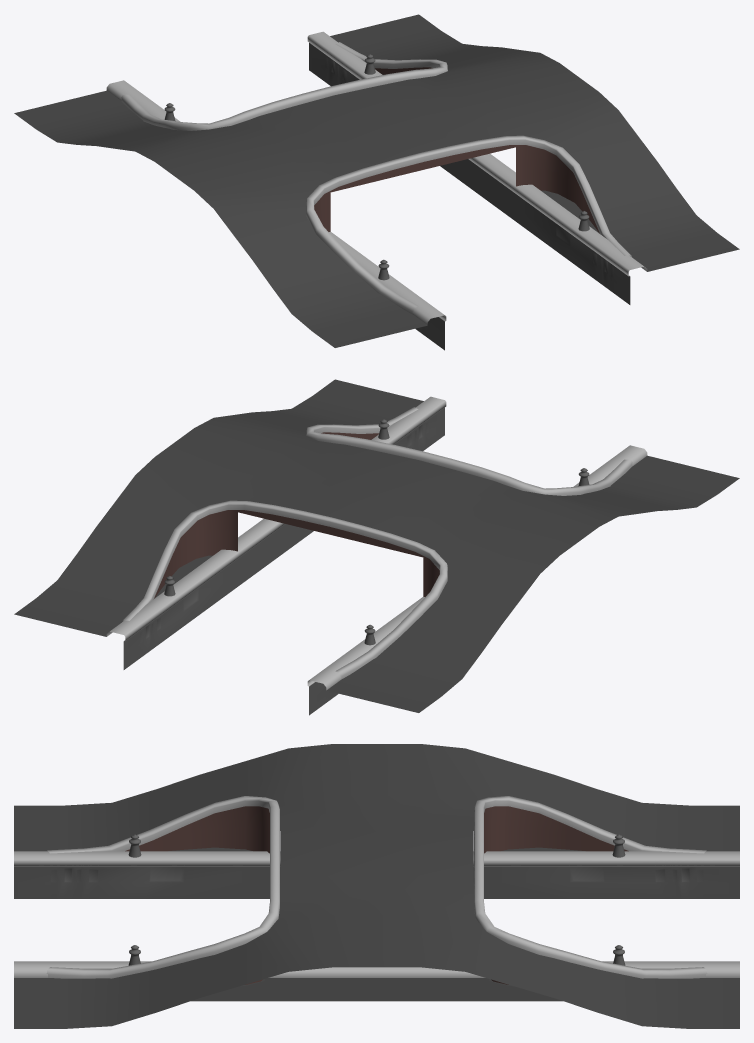
The model's file is bridge_module.fbx.
3 views of the same model, one above another, from view 1: azimuth 30°, elevation 25°; view 2: azimuth 150°, elevation 25°; view 3: azimuth 270°, elevation 25° (orthographic). The views are drawn at different scales.
Parts seen in each view (by area): view 1: Plane.251; view 2: Plane.251; view 3: Plane.251.
Boxes of the visible parts, x1,y1,x2,y2 form: Plane.251: (14,14,739,350); Plane.251: (14,379,739,715); Plane.251: (14,744,739,1028).
Bounding box in the file's own units: 2185 × 461 × 3000.
